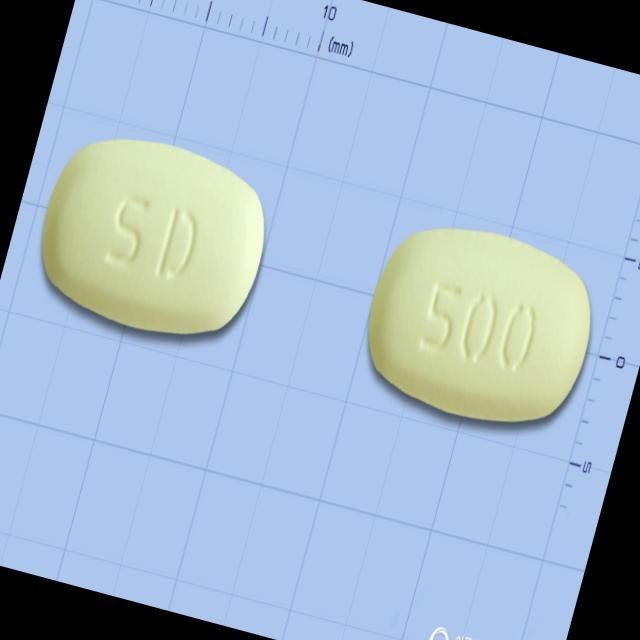Clabio: (17, 111, 290, 368), (343, 199, 615, 452)
